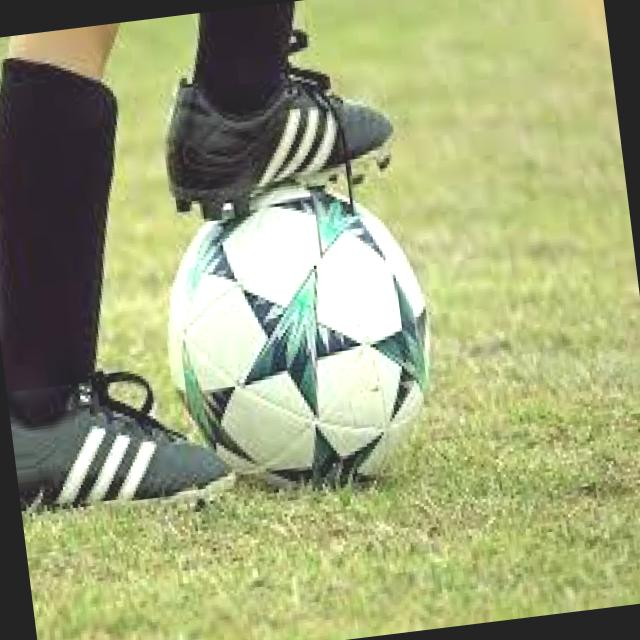Soccer Ball: (151, 183, 451, 506)
